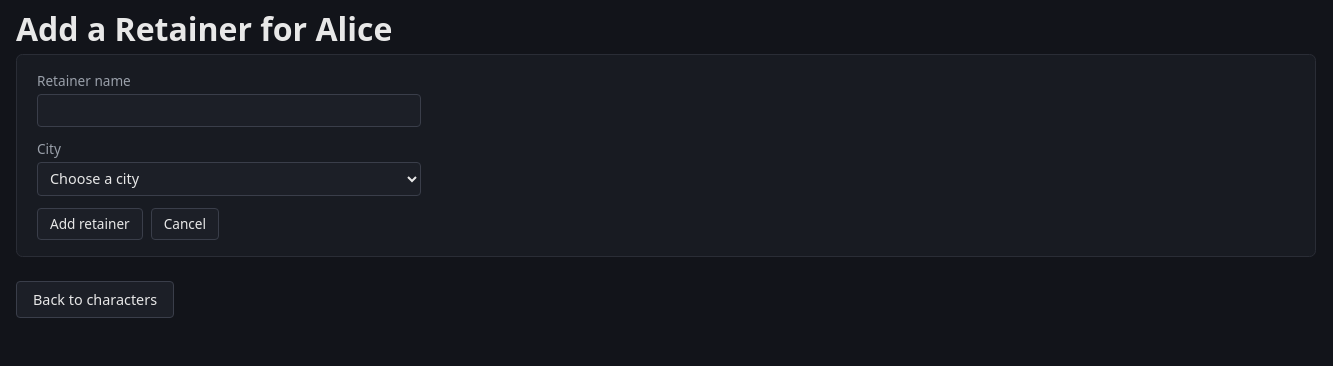
Test case: AddRetainerContainer › should stay put explaining a retainer the character wouldn't take, adding nothing
Type "Amarana" into the field labelled "Retainer name" at [229, 110], box 37,94 -> 421,127
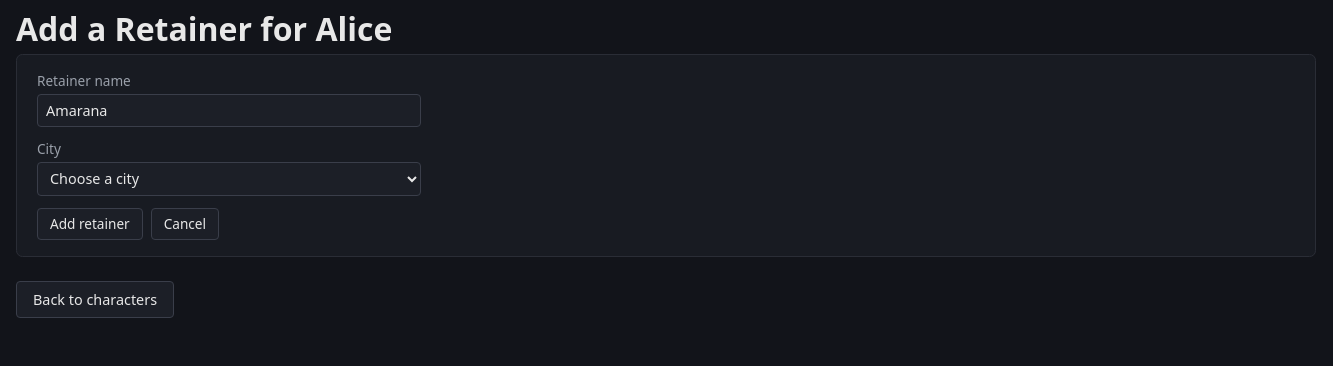
Select "Kugane" in the dropdown labelled "City" at [229, 179], box 37,162 -> 421,196
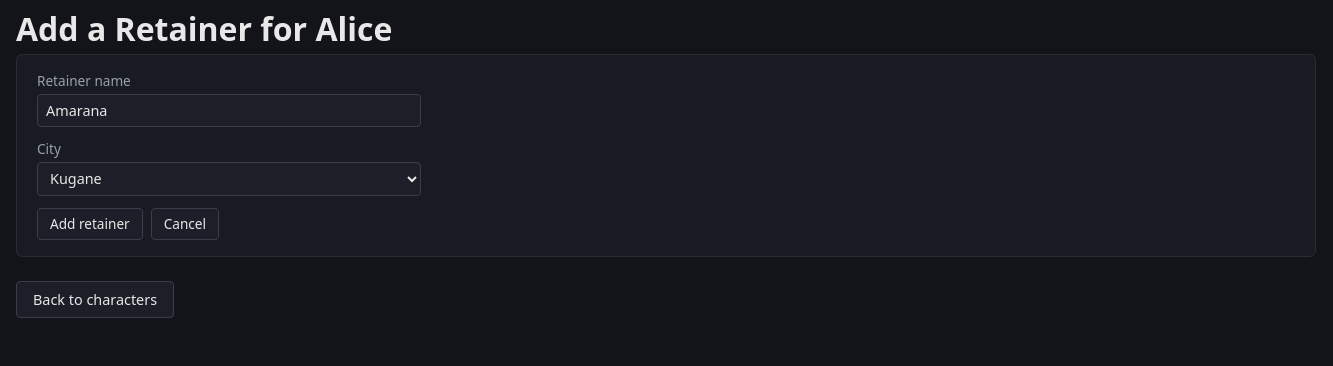
Click the button "Add retainer" at [90, 224], box 37,208 -> 143,240
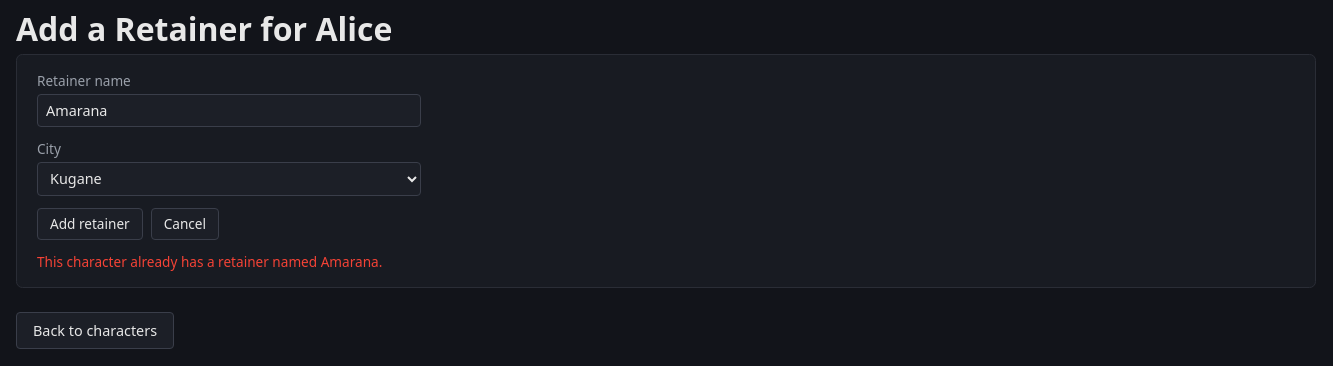
Result: the message reads "This character already has a retainer named Amarana." at 37,252 -> 382,271
